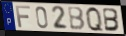0: (34, 5, 49, 29)
2: (50, 5, 69, 31)
B: (67, 7, 87, 31), (102, 7, 121, 32)
F: (15, 5, 32, 29)
Q: (85, 6, 106, 34)
